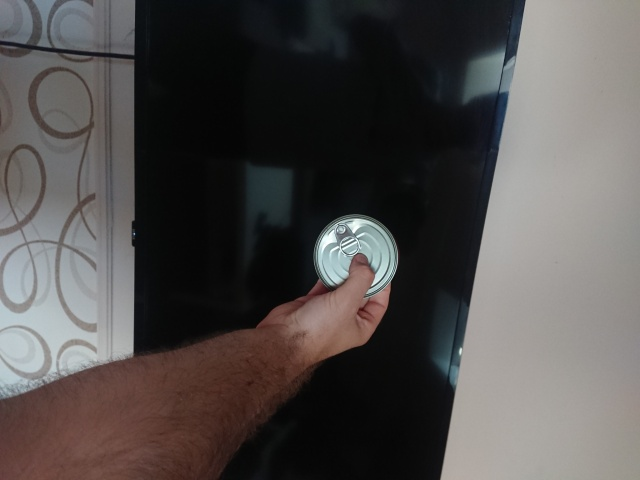Giana Tuna Salad Mexico 185g: (311, 212, 400, 302)
